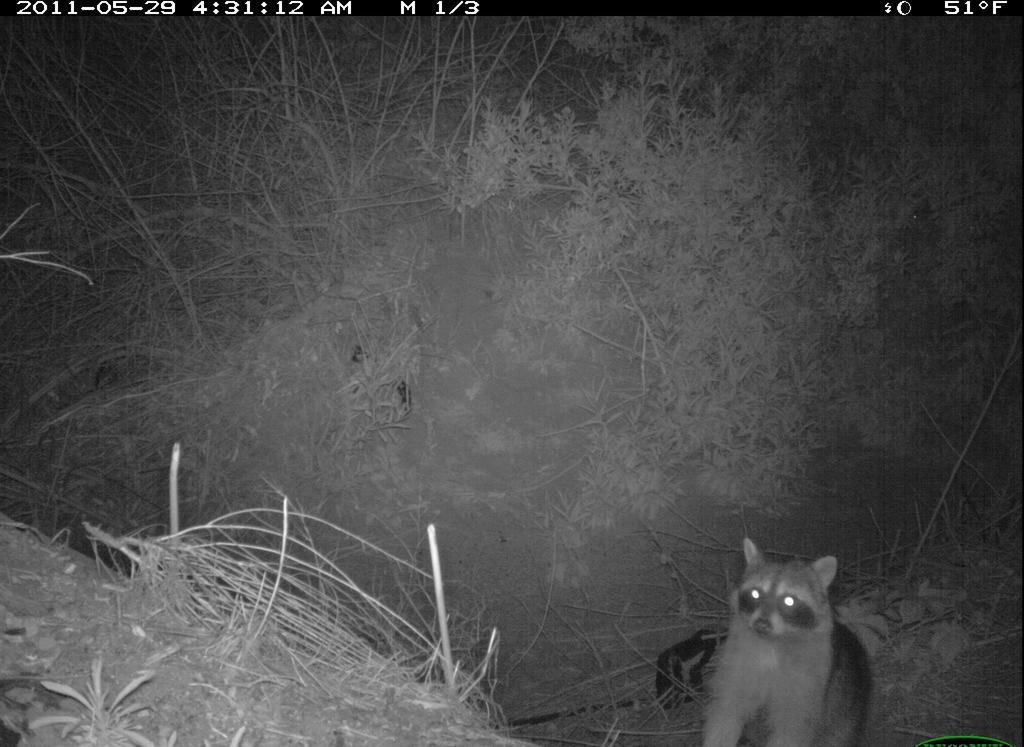raccoon: (689, 529, 883, 747)
